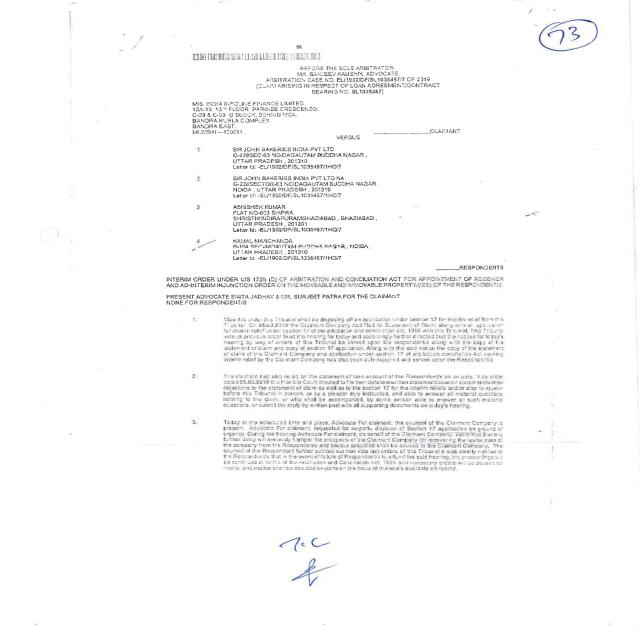page-number: (505, 0, 640, 67)
